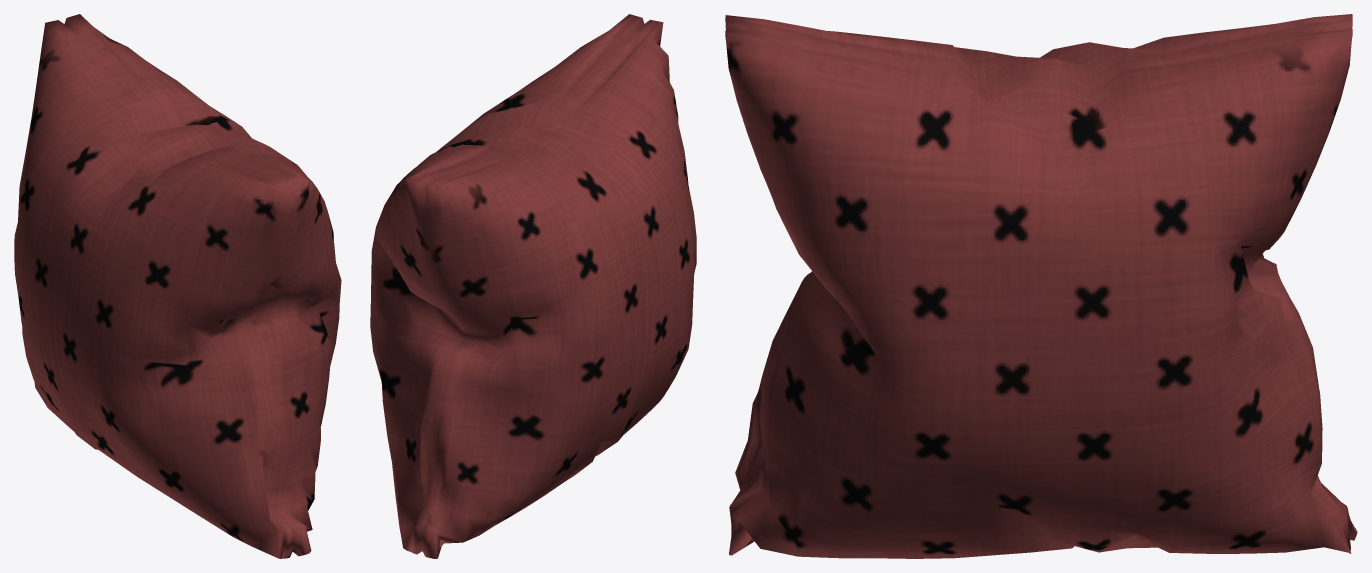
Rendered from rugs_and_pillows_pillow_red.fbx.
The picture shows the model from 3 angles, left to right: view 1: azimuth 30°, elevation 25°; view 2: azimuth 150°, elevation 25°; view 3: azimuth 270°, elevation 25°; orthographic projection. The views are drawn at different scales.
Visible parts, largest first — view 1: Plane.024; view 2: Plane.024; view 3: Plane.024.
Part boxes in pixels (bbox=[...]): Plane.024: bbox=[14, 14, 341, 558]; Plane.024: bbox=[370, 14, 696, 558]; Plane.024: bbox=[725, 14, 1357, 558].
Bounding box in the file's own units: 35.65 × 54.2 × 59.82.
